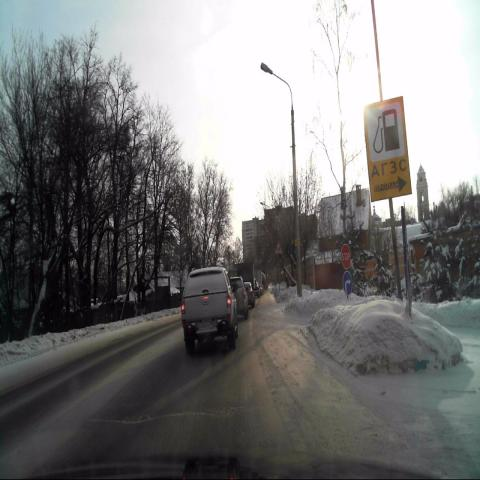2_5: (341, 244, 350, 269)
